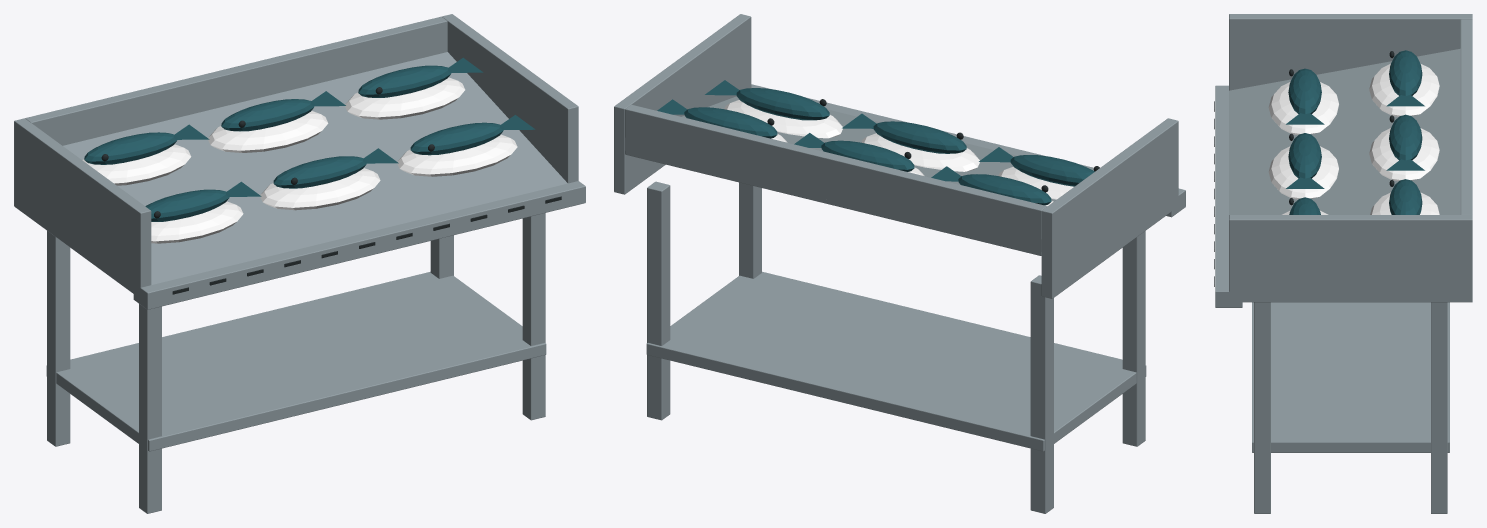
Rendered from wet-market-fish-counter.glb.
3 views of the same model, side by side, from view 1: azimuth 30°, elevation 25°; view 2: azimuth 150°, elevation 25°; view 3: azimuth 270°, elevation 25° (orthographic). The views are drawn at different scales.
Visible parts, largest first — view 1: Lower_Shelf, Ice_Well_Base, Well_Back, Well_Side, Drain_Gutter, Well_Side.001, Leg.001, Leg.002, Leg, Ice_Mound, Ice_Mound.003, Ice_Mound.005 (+10 smaller); view 2: Lower_Shelf, Well_Back, Well_Side, Well_Side.001, Ice_Well_Base, Leg.003, Leg.001, Leg, Leg.002, Removable_Fish.003, Removable_Fish.005, Removable_Fish.001 (+7 smaller); view 3: Lower_Shelf, Well_Side.001, Ice_Well_Base, Well_Side, Leg.002, Leg.003, Drain_Gutter, Well_Back, Ice_Mound.004, Ice_Mound.001, Ice_Mound.002, Ice_Mound.003 (+9 smaller).
Part boxes in pixels (left/top/right/bottom): Lower_Shelf: left=46, top=271, right=546, bottom=451; Ice_Well_Base: left=63, top=52, right=567, bottom=284; Well_Back: left=25, top=16, right=447, bottom=145; Well_Side: left=14, top=118, right=151, bottom=293; Drain_Gutter: left=133, top=181, right=585, bottom=309; Well_Side.001: left=442, top=14, right=578, bottom=183; Leg.001: left=47, top=231, right=70, bottom=446; Leg.002: left=522, top=213, right=545, bottom=420; Leg: left=139, top=304, right=161, bottom=513; Ice_Mound: left=345, top=77, right=465, bottom=119; Ice_Mound.003: left=260, top=168, right=380, bottom=210; Ice_Mound.005: left=397, top=134, right=517, bottom=176; Lower_Shelf: left=646, top=271, right=1146, bottom=451; Well_Back: left=625, top=104, right=1047, bottom=255; Well_Side: left=1041, top=118, right=1178, bottom=298; Well_Side.001: left=614, top=14, right=751, bottom=194; Ice_Well_Base: left=625, top=96, right=1055, bottom=251; Leg.003: left=647, top=181, right=670, bottom=420; Leg.001: left=1030, top=275, right=1053, bottom=513; Leg: left=1122, top=231, right=1145, bottom=446; Leg.002: left=739, top=182, right=761, bottom=278; Removable_Fish.003: left=873, top=121, right=966, bottom=153; Removable_Fish.005: left=736, top=88, right=829, bottom=120; Removable_Fish.001: left=1010, top=155, right=1094, bottom=186; Lower_Shelf: left=1252, top=302, right=1449, bottom=452; Well_Side.001: left=1229, top=215, right=1472, bottom=302; Ice_Well_Base: left=1229, top=48, right=1460, bottom=214; Well_Side: left=1229, top=14, right=1472, bottom=90; Leg.002: left=1254, top=302, right=1270, bottom=513; Leg.003: left=1431, top=302, right=1447, bottom=513; Drain_Gutter: left=1215, top=85, right=1242, bottom=307; Well_Back: left=1460, top=19, right=1472, bottom=214; Ice_Mound.004: left=1369, top=128, right=1439, bottom=181; Ice_Mound.001: left=1268, top=82, right=1338, bottom=135; Ice_Mound.002: left=1369, top=63, right=1439, bottom=116; Ice_Mound.003: left=1268, top=146, right=1338, bottom=199.
Size of the model in its own units: 1.6 by 1.1 by 0.8485.
